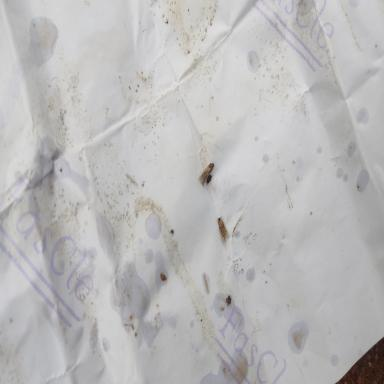pbw: (216, 216, 228, 248), (198, 162, 214, 186)
